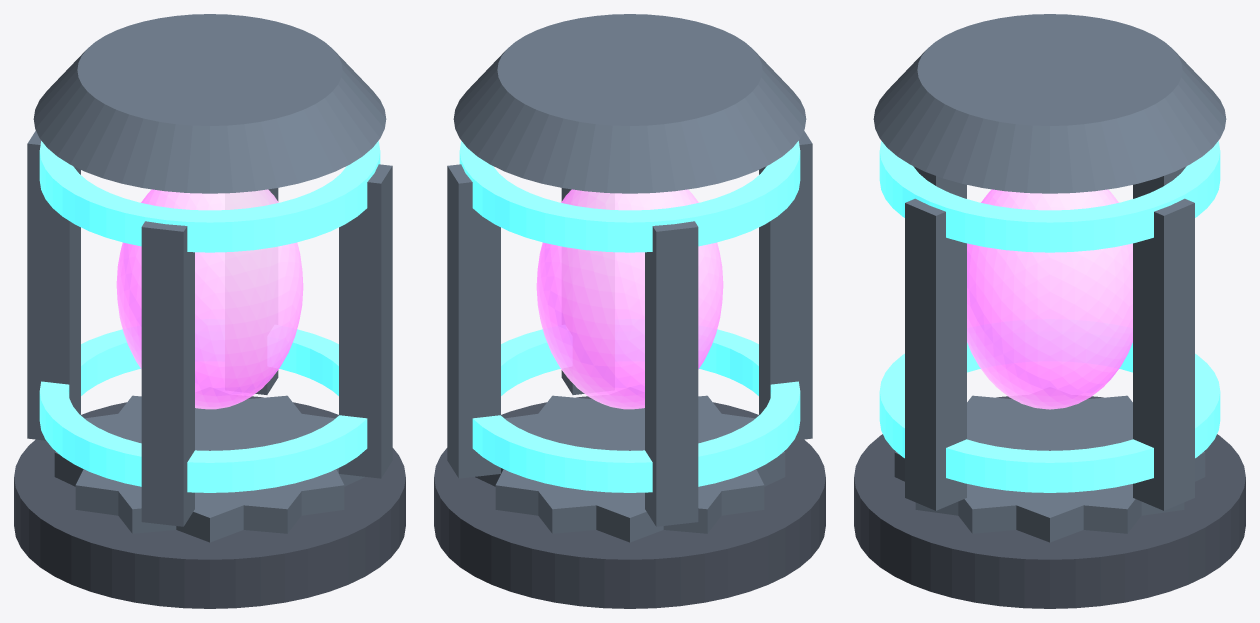
The model's file is AXM-ENERGY-CORE-001.glb.
The picture shows the model from 3 angles, left to right: view 1: azimuth 30°, elevation 25°; view 2: azimuth 150°, elevation 25°; view 3: azimuth 270°, elevation 25°; orthographic projection.
Visible parts, largest first — view 1: cap, base, core, lower_ring, base_gear, pillar__r02, upper_ring, pillar__r03, pillar__r01; view 2: cap, base, core, lower_ring, base_gear, pillar__r01, upper_ring, pillar__r00, pillar__r02; view 3: cap, base, core, pillar__r00, pillar__r03, base_gear, upper_ring, lower_ring, pillar__r01, pillar__r02.
Part boxes in pixels (box(x1,y1,x2,y2)): cap: box(33, 14, 386, 193); base: box(14, 396, 405, 608); core: box(116, 189, 303, 409); lower_ring: box(39, 329, 367, 492); base_gear: box(54, 395, 364, 542); pillar__r02: box(141, 221, 194, 526); upper_ring: box(39, 141, 380, 252); pillar__r03: box(339, 164, 392, 478); pillar__r01: box(27, 130, 80, 440); cap: box(453, 14, 806, 193); base: box(434, 396, 825, 608); core: box(536, 189, 723, 409); lower_ring: box(472, 329, 800, 492); base_gear: box(475, 395, 785, 542); pillar__r01: box(645, 221, 698, 526); upper_ring: box(459, 141, 800, 252); pillar__r00: box(447, 164, 500, 478); pillar__r02: box(759, 130, 812, 440); cap: box(873, 14, 1226, 193); base: box(854, 396, 1245, 608); core: box(967, 189, 1132, 409); pillar__r00: box(1133, 198, 1194, 510); pillar__r03: box(905, 198, 966, 510); base_gear: box(894, 395, 1205, 542); upper_ring: box(879, 141, 1220, 252); lower_ring: box(879, 342, 1220, 492); pillar__r01: box(1133, 166, 1186, 198); pillar__r02: box(913, 166, 966, 198).
Size of the model in its own units: 1.3 by 1.67 by 1.3.
